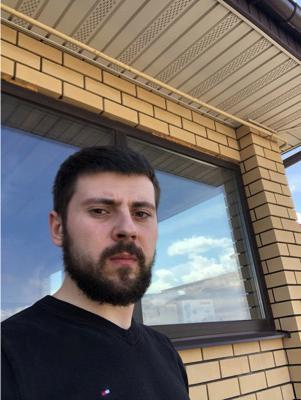without_mask: (64, 187, 160, 307)
